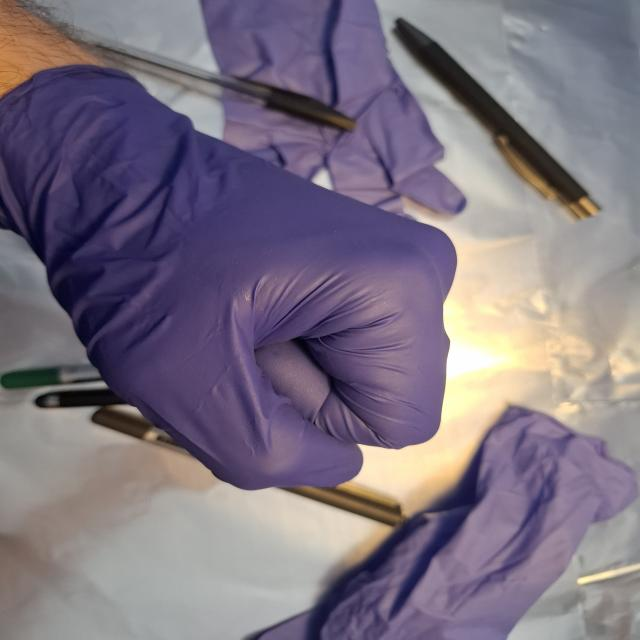glove_on: (0, 56, 464, 496)
